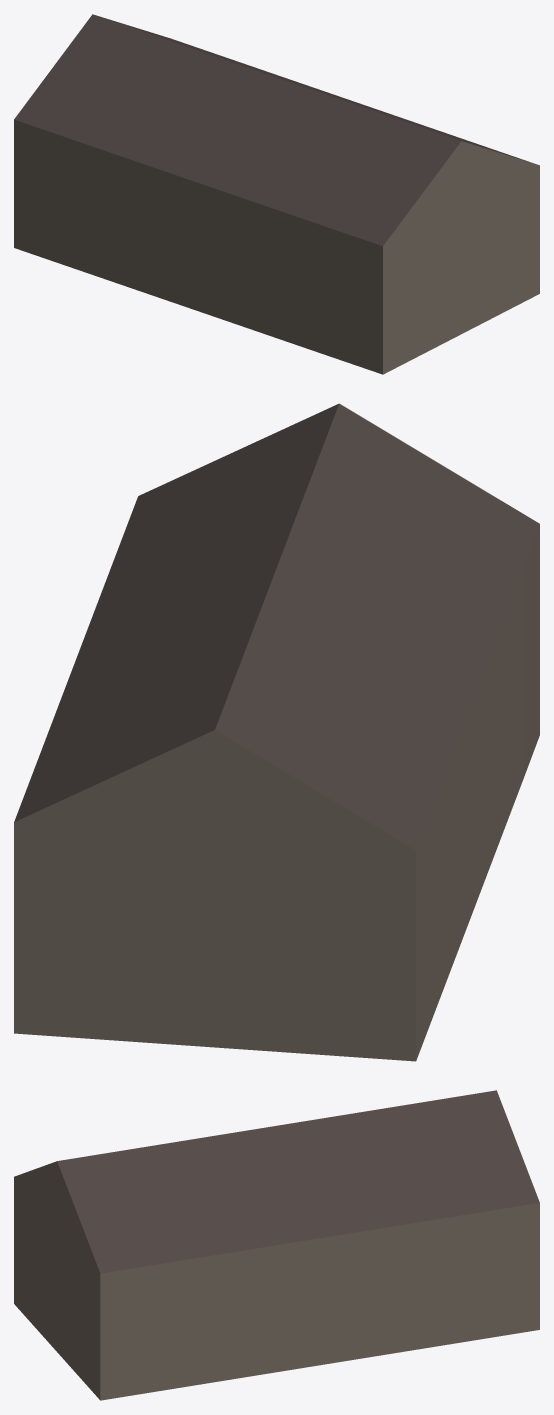
The picture shows the model from 3 angles, top to bottom: view 1: azimuth 30°, elevation 25°; view 2: azimuth 150°, elevation 25°; view 3: azimuth 270°, elevation 25°; orthographic projection. The views are drawn at different scales.
Visible parts, largest first — view 1: HP-w1200772465; view 2: HP-w1200772465; view 3: HP-w1200772465.
Part boxes in pixels (x1,y1,x2,y2): HP-w1200772465: (14, 14, 539, 374); HP-w1200772465: (14, 403, 539, 1061); HP-w1200772465: (14, 1090, 539, 1400).
Size of the model in its own units: 17 by 9.03 by 22.53.
